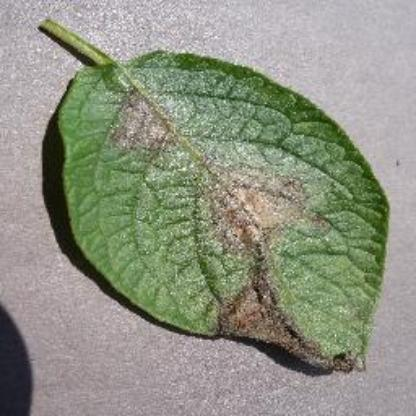Late-Blight: (26, 9, 386, 376)
